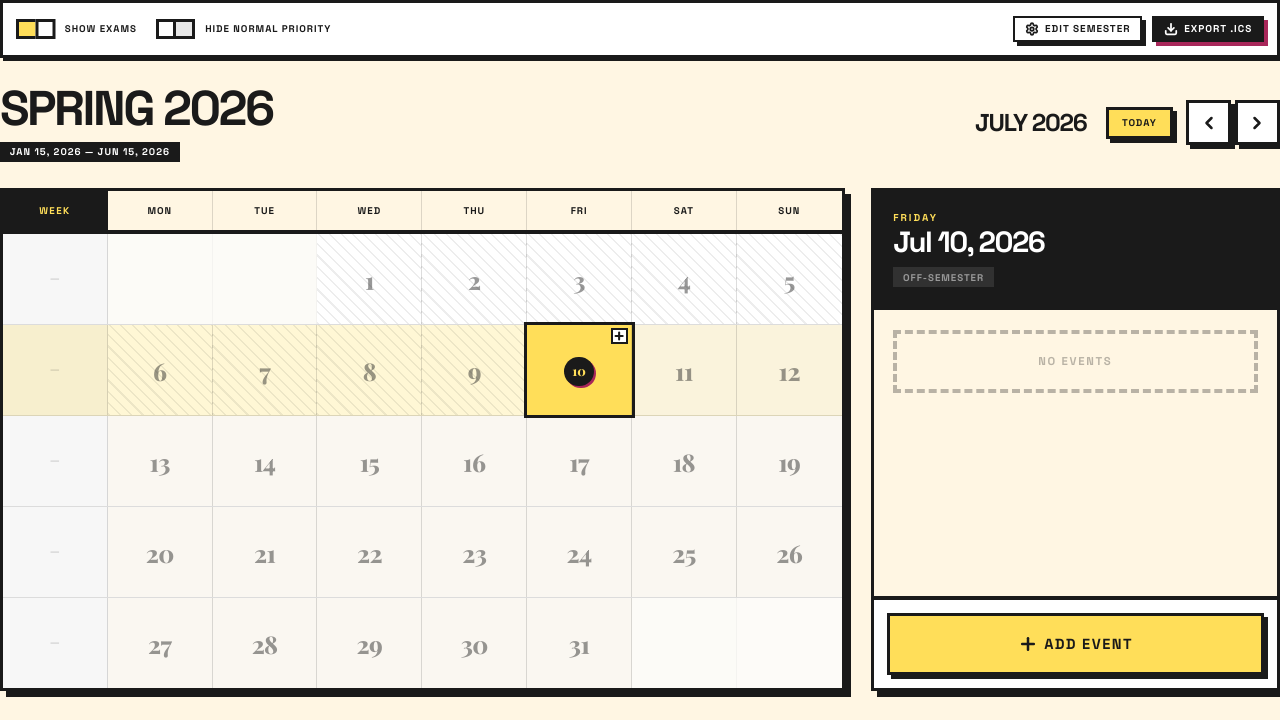
Test: Todo ↔ Calendar Integration › submit button text changes based on mode
This screenshot has width=1280, height=720.
What coordinates should you click on to do the following:
click the button "Add Event"
I would click on:
 (1075, 644)
Its box is [887, 613, 1264, 675].
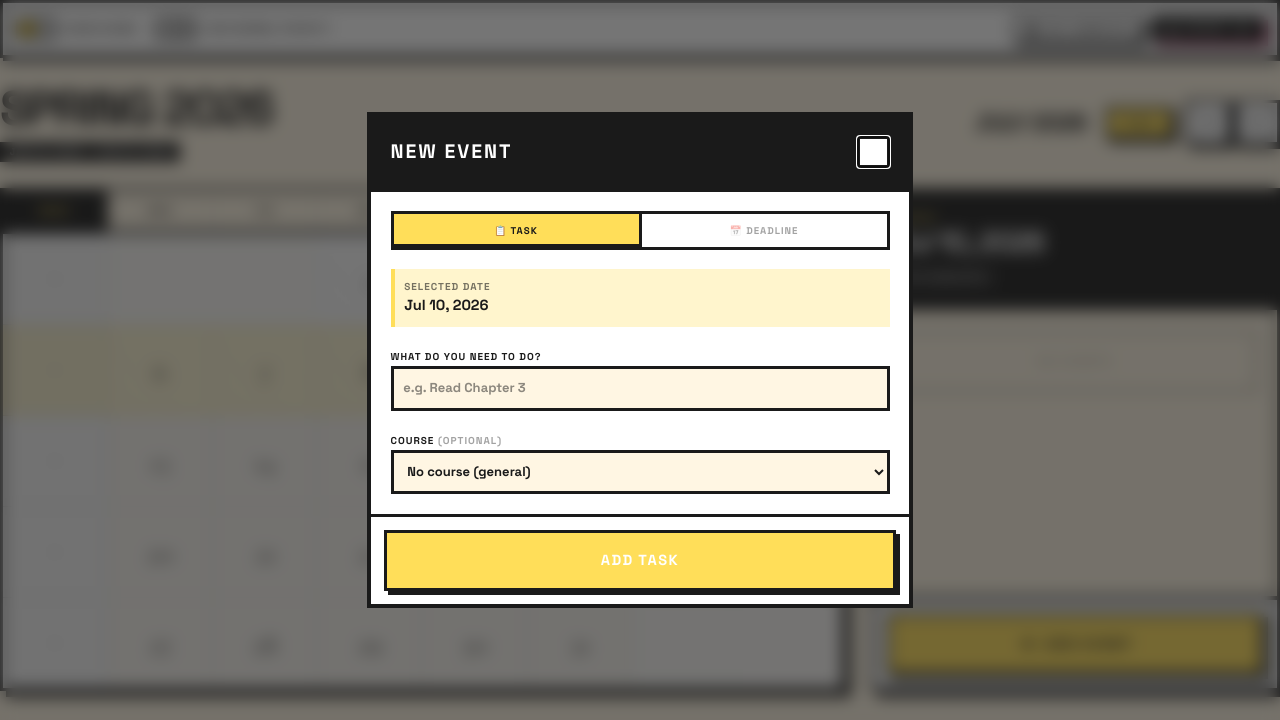
Expected: the button "Add Task" is shown, [384, 530, 896, 591]
What coordinates should you click on to do the following:
click the button "📅 Deadline"
I would click on:
 (762, 231)
Its box is [638, 214, 886, 247].
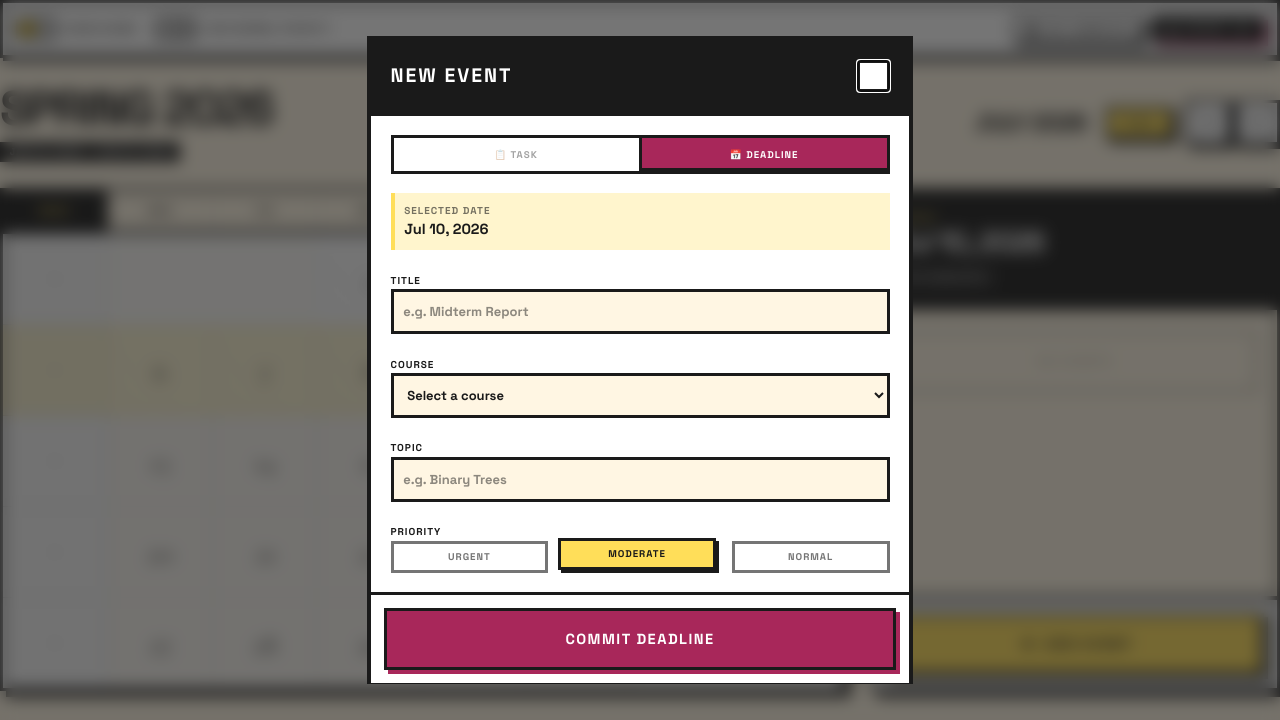
Expected: the button "Commit Deadline" is shown, [384, 608, 896, 670]
